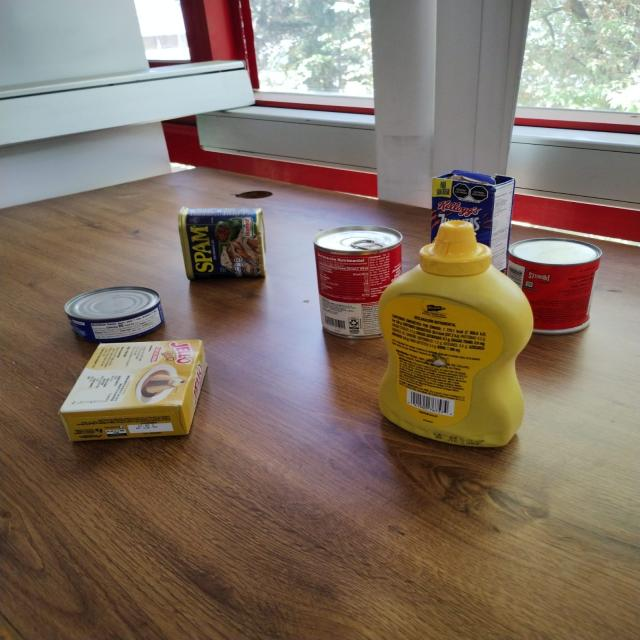can of cream: (310, 225, 404, 336)
can of tuna: (63, 286, 165, 341)
cereal: (429, 171, 512, 278)
chips: (505, 238, 602, 334)
jelly: (58, 336, 210, 439)
mustard: (384, 220, 531, 441)
spam: (178, 207, 269, 280)
